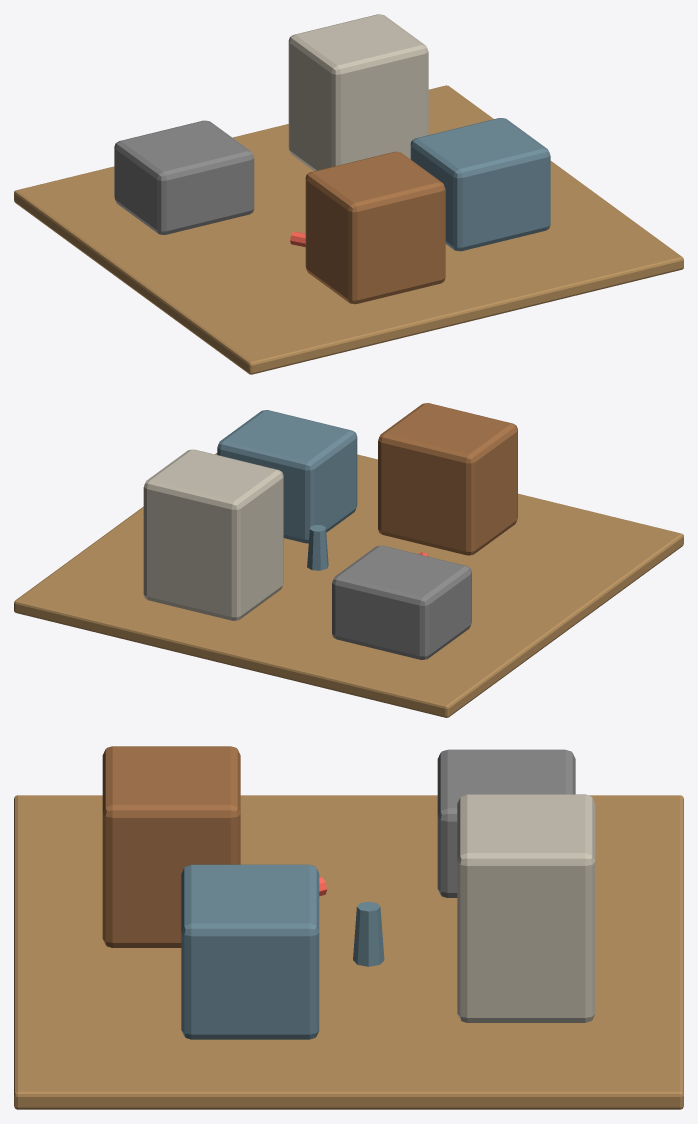
The model's file is goc-ve-chai.glb.
The picture shows the model from 3 angles, top to bottom: view 1: azimuth 30°, elevation 25°; view 2: azimuth 150°, elevation 25°; view 3: azimuth 270°, elevation 25°; orthographic projection. The views are drawn at different scales.
Parts seen in each view (by area): view 1: goc-ve-chai-0, goc-ve-chai-4, goc-ve-chai-3, goc-ve-chai-2, goc-ve-chai-1; view 2: goc-ve-chai-0, goc-ve-chai-4, goc-ve-chai-3, goc-ve-chai-1, goc-ve-chai-2, goc-ve-chai-5; view 3: goc-ve-chai-0, goc-ve-chai-4, goc-ve-chai-2, goc-ve-chai-3, goc-ve-chai-1, goc-ve-chai-5.
Boxes of the visible parts, left/top/right/bottom form: goc-ve-chai-0: left=14, top=85, right=683, bottom=374; goc-ve-chai-4: left=288, top=14, right=428, bottom=171; goc-ve-chai-3: left=305, top=151, right=445, bottom=304; goc-ve-chai-2: left=410, top=118, right=550, bottom=251; goc-ve-chai-1: left=114, top=120, right=254, bottom=234; goc-ve-chai-0: left=14, top=453, right=683, bottom=717; goc-ve-chai-4: left=143, top=449, right=283, bottom=620; goc-ve-chai-3: left=378, top=403, right=517, bottom=555; goc-ve-chai-1: left=332, top=545, right=471, bottom=659; goc-ve-chai-2: left=217, top=410, right=357, bottom=543; goc-ve-chai-5: left=307, top=525, right=328, bottom=570; goc-ve-chai-0: left=14, top=795, right=683, bottom=1109; goc-ve-chai-4: left=457, top=794, right=595, bottom=1022; goc-ve-chai-2: left=181, top=864, right=319, bottom=1039; goc-ve-chai-3: left=102, top=746, right=240, bottom=947; goc-ve-chai-1: left=437, top=749, right=575, bottom=897; goc-ve-chai-5: left=353, top=901, right=384, bottom=966.
Size of the model in its own units: 3.6 by 1.05 by 3.4.
